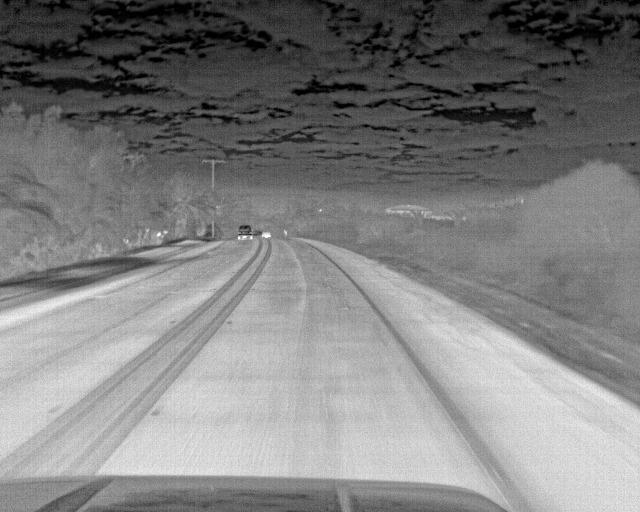car: (237, 225, 252, 244), (259, 227, 274, 240)
